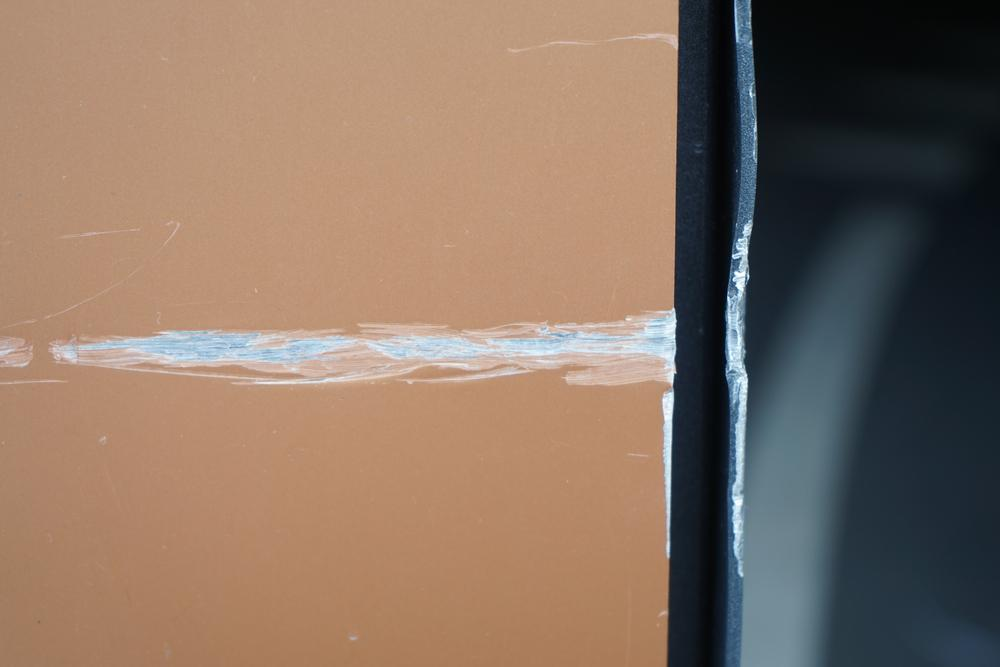scratch: (0, 308, 678, 560), (726, 213, 751, 585)
